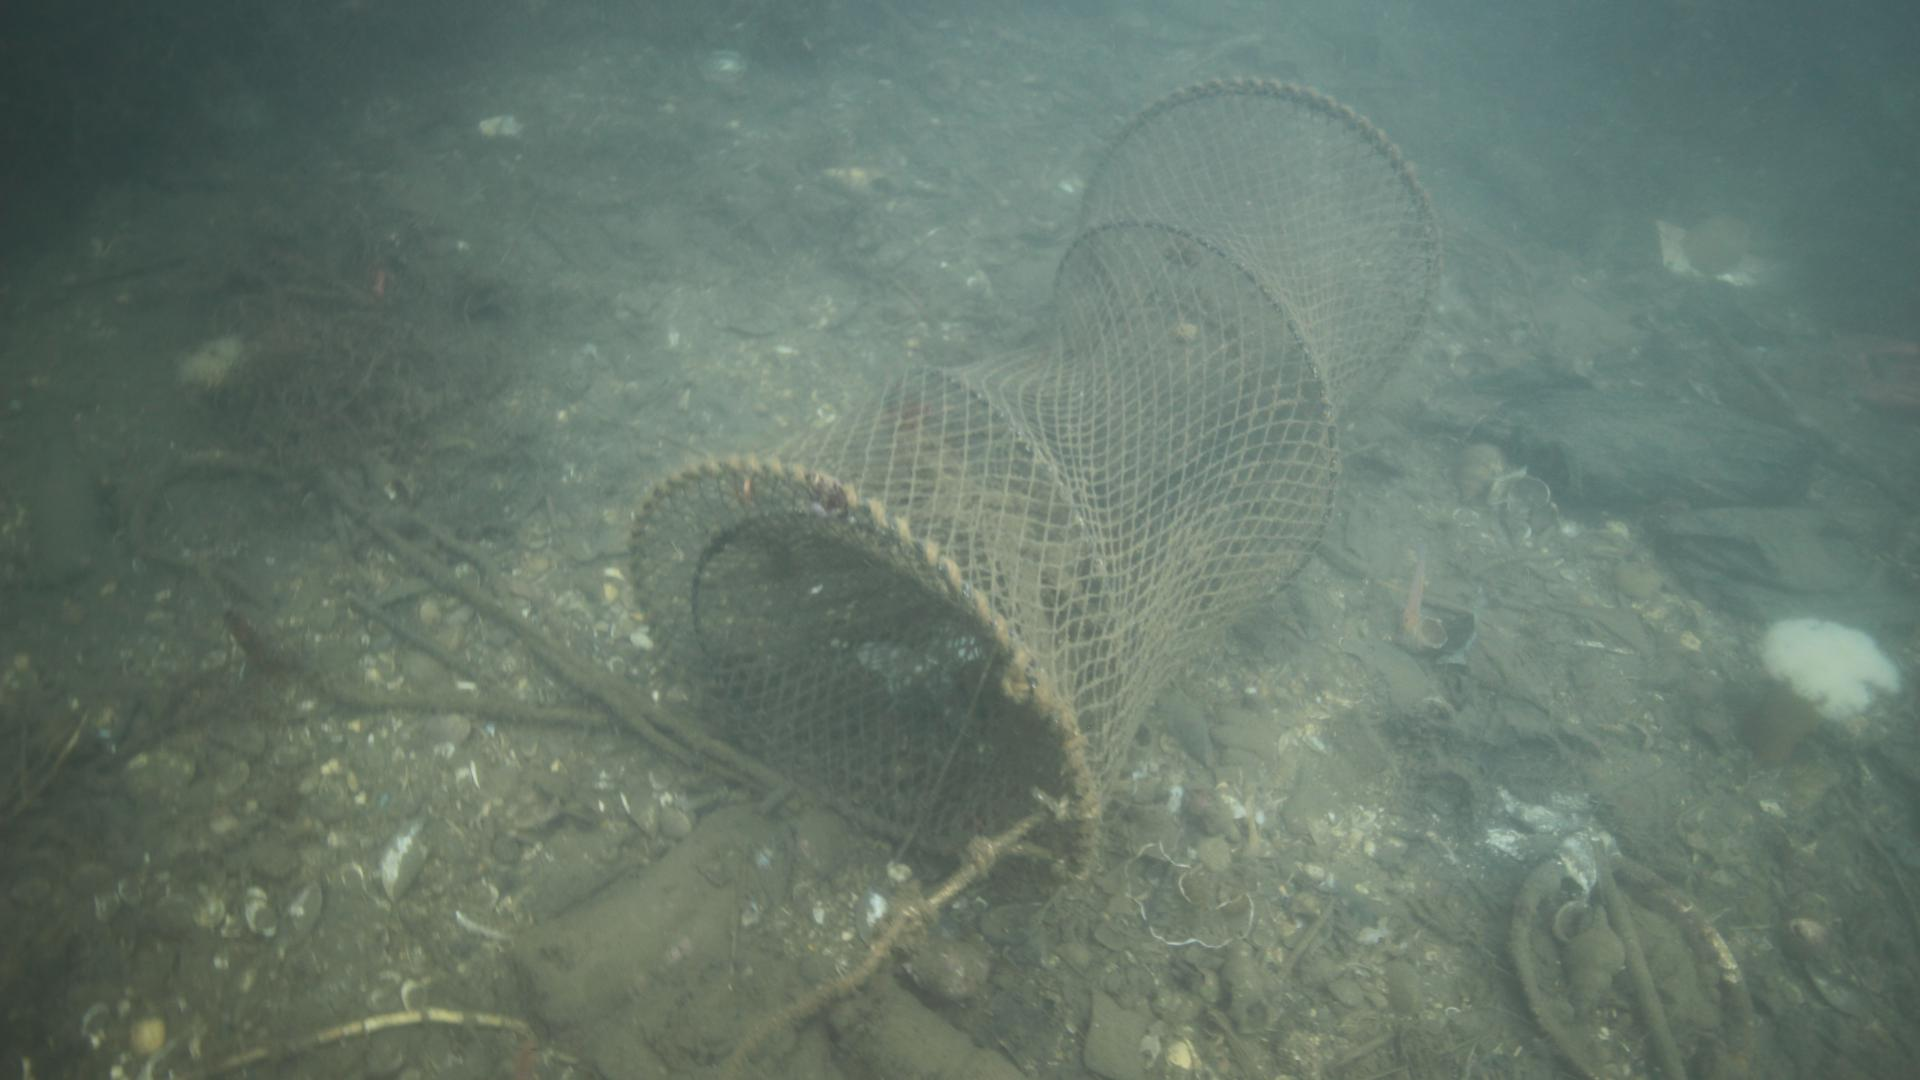rope: (704, 794, 1075, 1080)
spring fish trap: (626, 73, 1439, 893)
